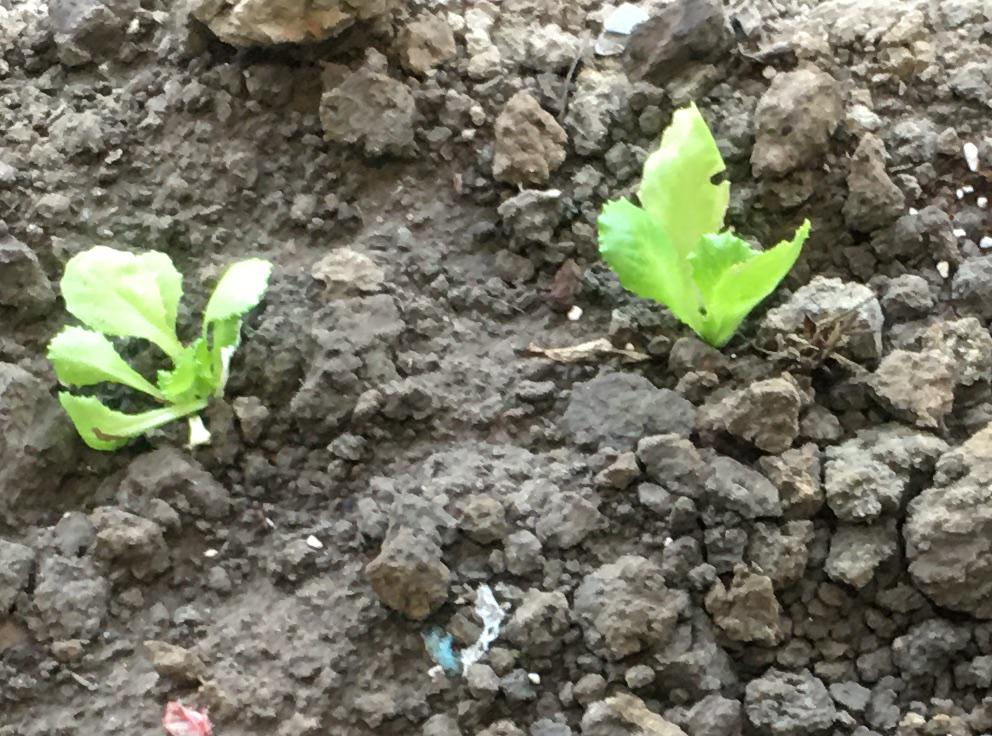block: (905, 426, 992, 622), (750, 68, 851, 180)
